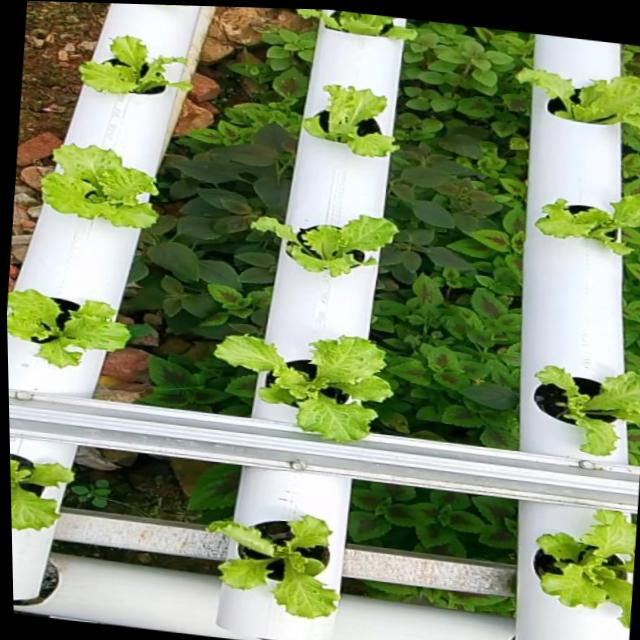Baby: (213, 335, 392, 441), (206, 515, 339, 619), (533, 510, 636, 628), (40, 143, 158, 229), (532, 365, 640, 456), (7, 289, 130, 368), (251, 215, 398, 277), (517, 68, 640, 135), (301, 84, 397, 157), (534, 193, 640, 256), (78, 36, 192, 94), (10, 455, 72, 530), (11, 236, 20, 244)
